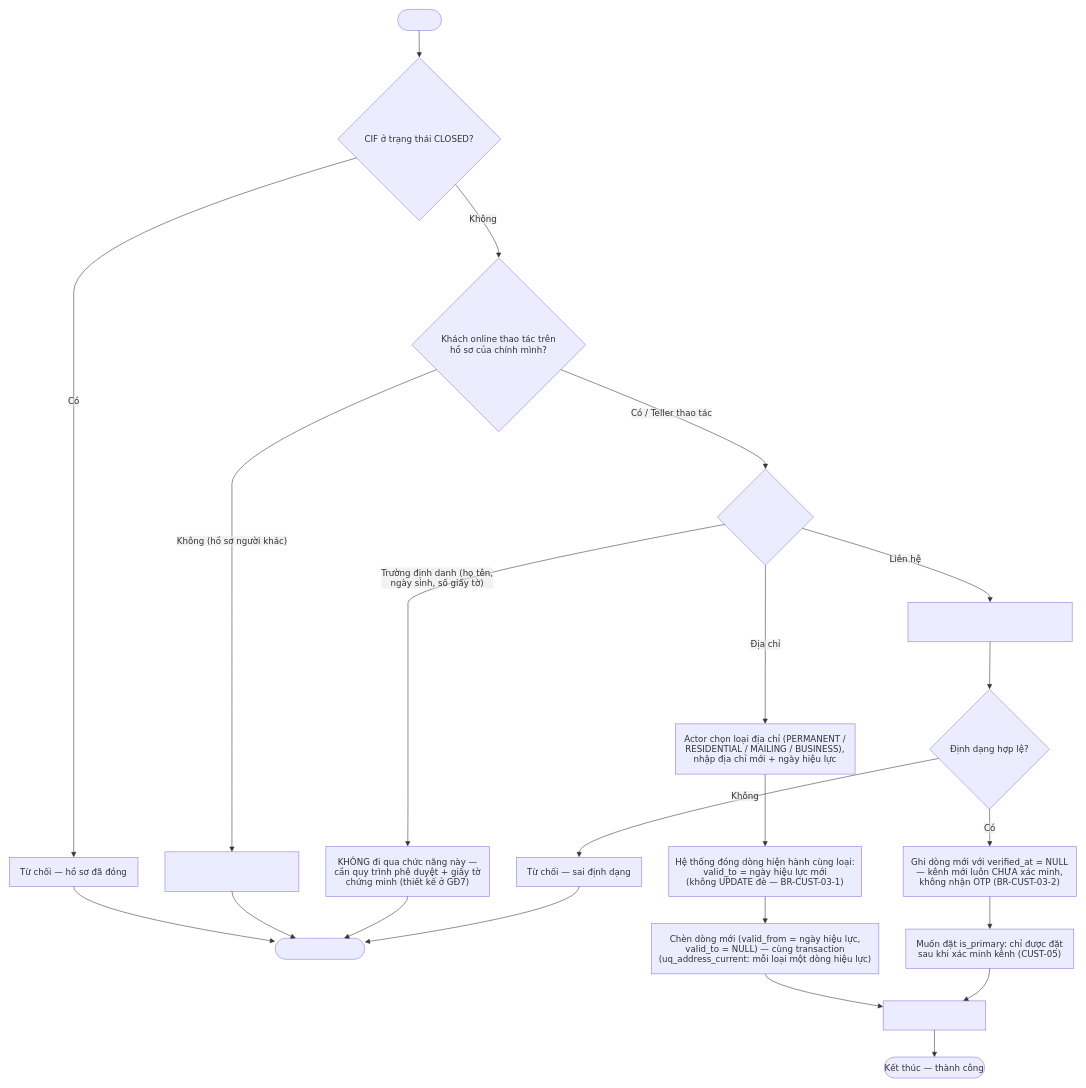
Image size: 1086x1088. Some labels were removed from this diagram. Here are the shapes that lost their labels. From the top down, the centre of each, then its label:
the point at 419,20: Bắt đầu
the point at 765,516: Loại thay đổi?
the point at 989,622: Actor thêm liên hệ mới (EMAIL / MOBILE / PHONE, giá trị)
the point at 231,871: Trả 403 — kiểm ownership qua user_id
the point at 320,948: Kết thúc — thất bại
the point at 934,1015: Ghi audit thay đổi
